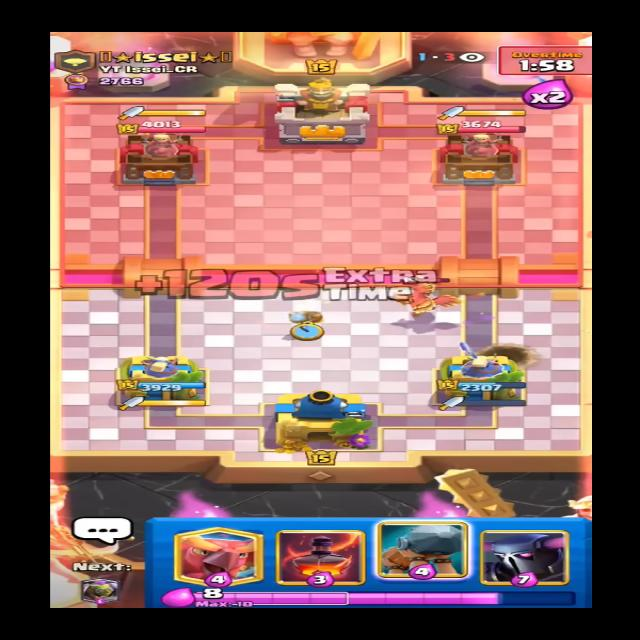Pheonix: (384, 276, 476, 314)
